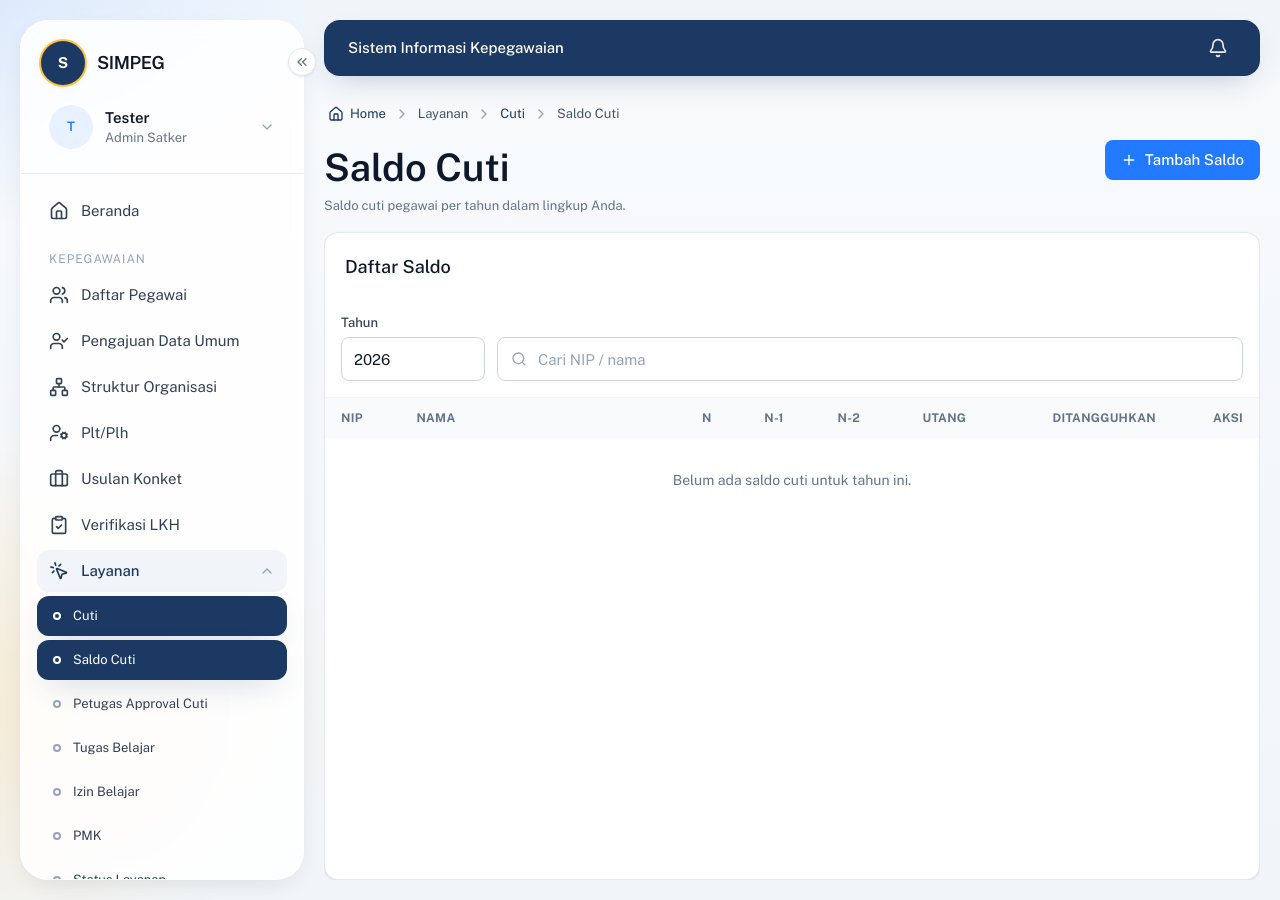
Test: CutiSaldoPage › tombol Tambah Saldo membuka formulir
What coordinates should you click on to do the following:
click the button with test id "saldo-tambah"
I would click on:
 (1182, 160)
Its box is [1105,140,1260,180].
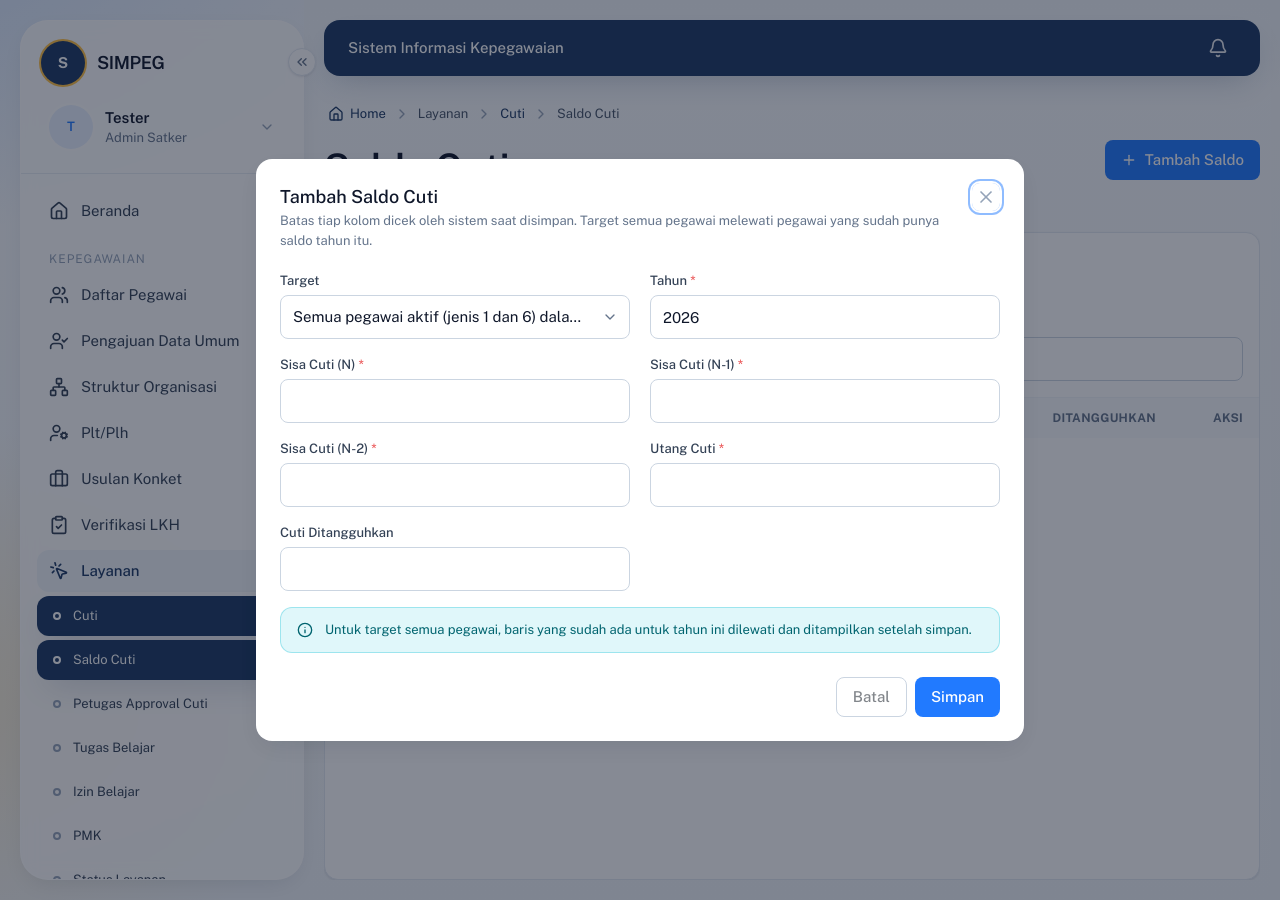
Check: the dialog with test id "saldo-form-dialog" is shown, box [256,159,1024,741]
